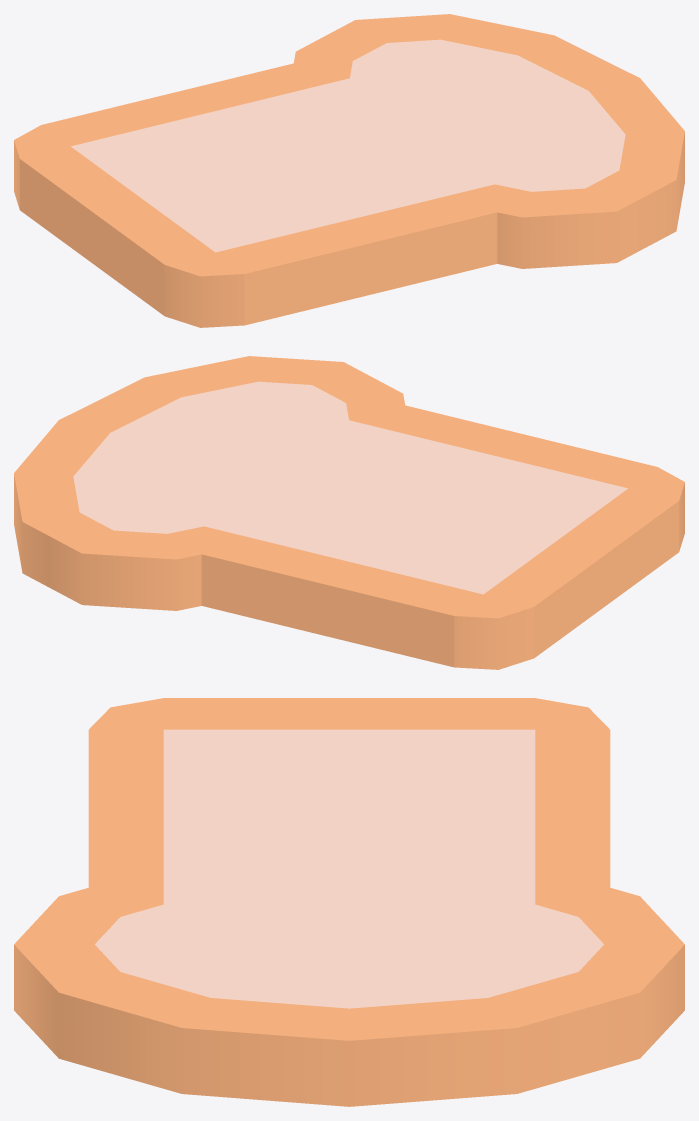
File: Bread.gltf
The picture shows the model from 3 angles, top to bottom: view 1: azimuth 30°, elevation 25°; view 2: azimuth 150°, elevation 25°; view 3: azimuth 270°, elevation 25°; orthographic projection. The views are drawn at different scales.
Visible parts, largest first — view 1: bread; view 2: bread; view 3: bread.
Boxes of the visible parts, <box> form: bread: <box>14,14,684,327</box>; bread: <box>14,356,684,669</box>; bread: <box>14,698,684,1106</box>.
Size of the model in its own units: 0.8846 by 0.0795 by 0.7318.
